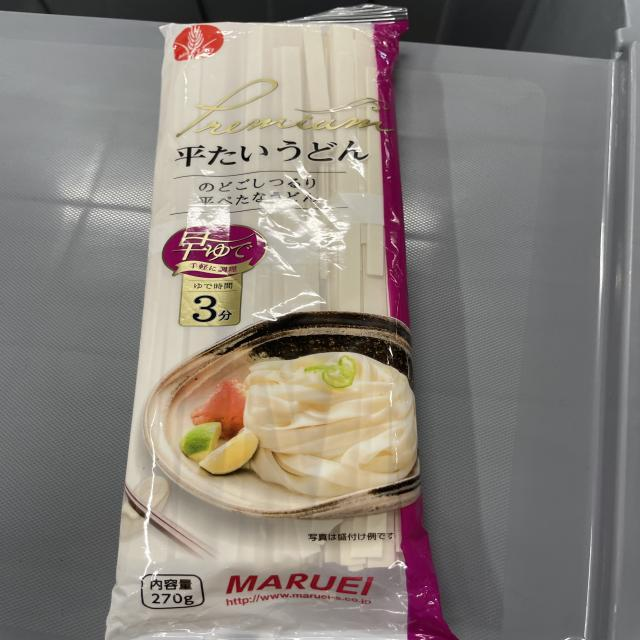object_name: (141, 20, 435, 640)
